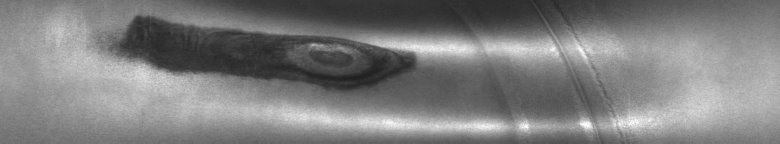ke: (100, 4, 662, 136)
